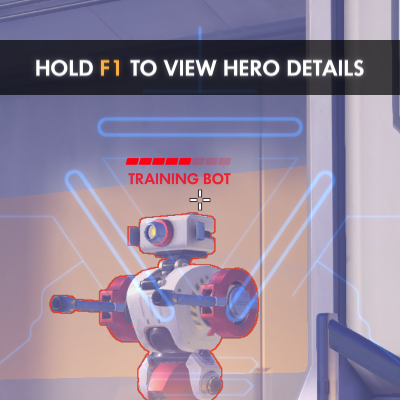hpbar: (125, 157, 231, 165)
